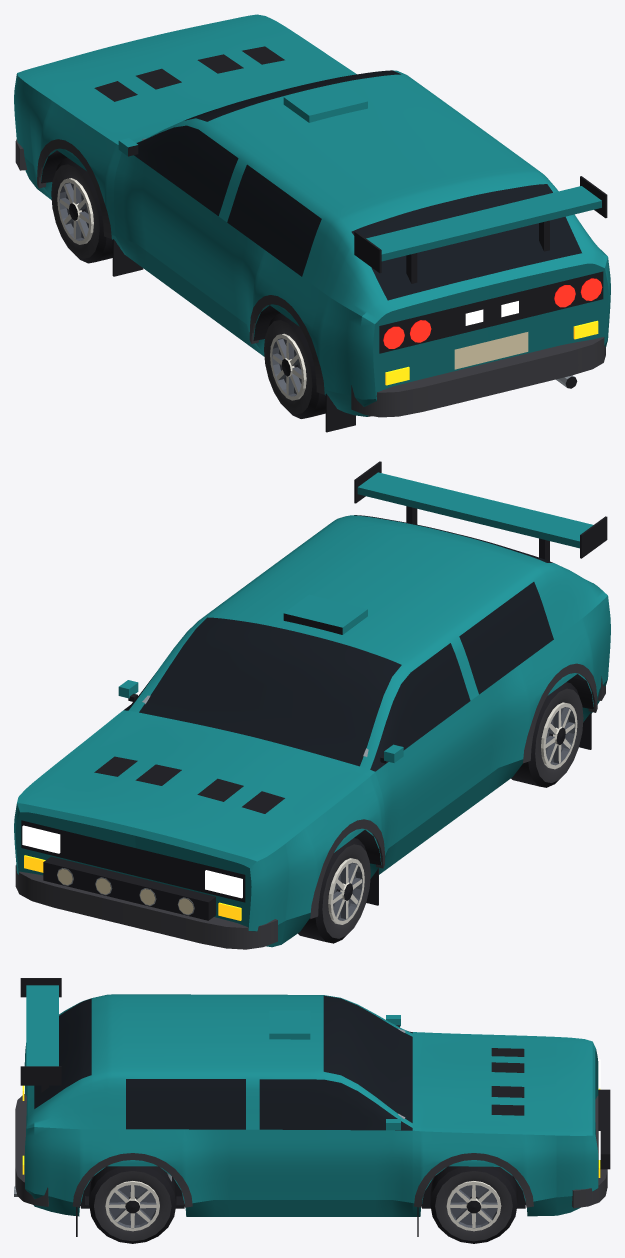
Rendered from kestrel_rs.glb.
3 views of the same model, one above another, from view 1: azimuth 30°, elevation 25°; view 2: azimuth 150°, elevation 25°; view 3: azimuth 270°, elevation 25° (orthographic). The views are drawn at different scales.
Visible parts, largest first — view 1: Body, Tire_RL, Tire_FL, Rim_RL, Rim_FL, brake_R, brake_L; view 2: Body, Tire_FL, Tire_RL, Rim_FL, Rim_RL, headlight_R, headlight_L; view 3: Body, Tire_FR, Tire_RR, Rim_FR, Rim_RR.
Boxes of the visible parts, x1,y1,x2,y2 form: Body: (14, 14, 610, 432); Tire_RL: (264, 313, 325, 418); Tire_FL: (51, 158, 112, 263); Rim_RL: (270, 333, 306, 400); Rim_FL: (57, 178, 93, 244); brake_R: (554, 278, 602, 307); brake_L: (383, 320, 431, 348); Body: (14, 461, 610, 949); Tire_FL: (298, 838, 370, 943); Tire_RL: (511, 682, 583, 787); Rim_FL: (328, 858, 364, 924); Rim_RL: (541, 702, 577, 769); headlight_R: (22, 825, 60, 853); headlight_L: (205, 870, 242, 898); Body: (14, 978, 610, 1236); Tire_FR: (430, 1166, 517, 1243); Tire_RR: (89, 1166, 176, 1243); Rim_FR: (446, 1181, 501, 1231); Rim_RR: (105, 1181, 159, 1231).
Bounding box in the file's own units: 1.9 × 1.38 × 4.37.
